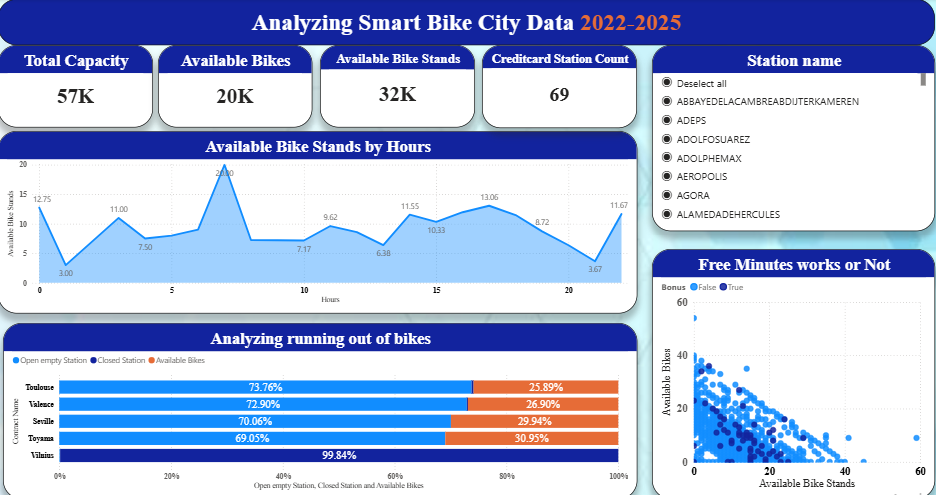

The dashboard page shown, as its layout file describes it:
{"tool":"powerbi","page":{"name":"Dashboard","canvas":[1500,800],"ordinal":0},"visuals":[{"type":"cardVisual","title":"Total Capacity","fields":{"Data":["Measure Table.Total Capacity"]},"box":[-2.1,74.2,248.4,132.3],"z":0},{"type":"cardVisual","title":"Available Bikes","fields":{"Data":["Sum(Data_Table.Available Bikes)"]},"box":[254.4,74.2,246.8,132.3],"z":1000},{"type":"cardVisual","title":"Available Bike Stands","fields":{"Data":["Sum(Data_Table.Available Bike Stands)"]},"box":[514,74.2,248.4,132.3],"z":2000},{"type":"scatterChart","title":"Free Minutes  works or Not","fields":{"Y":["Data_Table.Available Bikes"],"X":["Data_Table.Available Bike Stands"],"Series":["Data_Table.Bonus"]},"box":[1044.7,400,453.2,400],"z":3000},{"type":"hundredPercentStackedBarChart","title":"Analyzing running out of bikes","fields":{"Category":["Data_Table.Contract Name"],"Y":["Measure Table.Open empty Station","Measure Table.Closed Station","Sum(Data_Table.Available Bikes)"]},"box":[6,517.7,1014.5,282.3],"z":4000},{"type":"lineChart","fields":{"Category":["Data_Table.Hours"],"Y":["Avg(Data_Table.Available Bike Stands)"]},"box":[-2.1,211.3,1022.6,291.9],"z":5000},{"type":"listSlicer","fields":{"Values":["Data_Table.Station name"]},"box":[1044.7,74.2,453.2,298.4],"z":6000},{"type":"textbox","box":[-2.1,0,1499.2,73.6],"z":7000},{"type":"cardVisual","title":"Creditcard Station Count","fields":{"Data":["Measure Table.CreditCardStationsCount"]},"box":[772.8,73.6,248,132.8],"z":7001}]}

Visuals, with their boxes in screenshot pixels (x1, y1, x2, y2), scaled from the page's 1500x800 canvas onto the 936x495 screenshot:
"Total Capacity" cardVisual: BBox(0, 46, 154, 128)
"Available Bikes" cardVisual: BBox(159, 46, 313, 128)
"Available Bike Stands" cardVisual: BBox(321, 46, 476, 128)
"Free Minutes  works or Not" scatterChart: BBox(652, 248, 935, 494)
"Analyzing running out of bikes" hundredPercentStackedBarChart: BBox(4, 320, 637, 494)
lineChart - Data_Table.Hours x Avg(Data_Table.Available Bike Stands): BBox(0, 131, 637, 311)
listSlicer - Data_Table.Station name: BBox(652, 46, 935, 231)
textbox: BBox(0, 0, 934, 46)
"Creditcard Station Count" cardVisual: BBox(482, 46, 637, 128)
